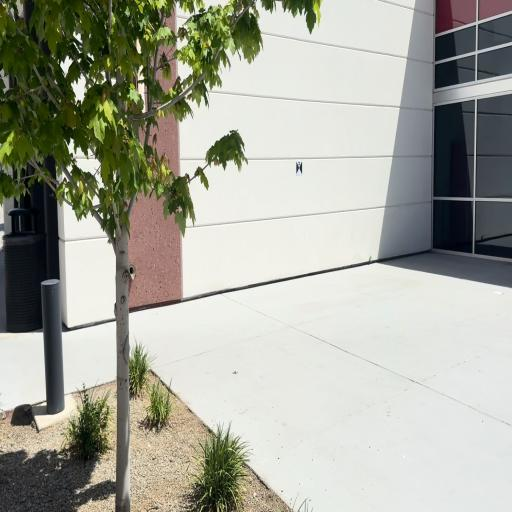target0: (296, 160, 302, 175)
